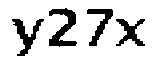2: (44, 5, 81, 56)
7: (85, 4, 114, 53)
x: (115, 16, 152, 48)
y: (9, 14, 41, 60)
